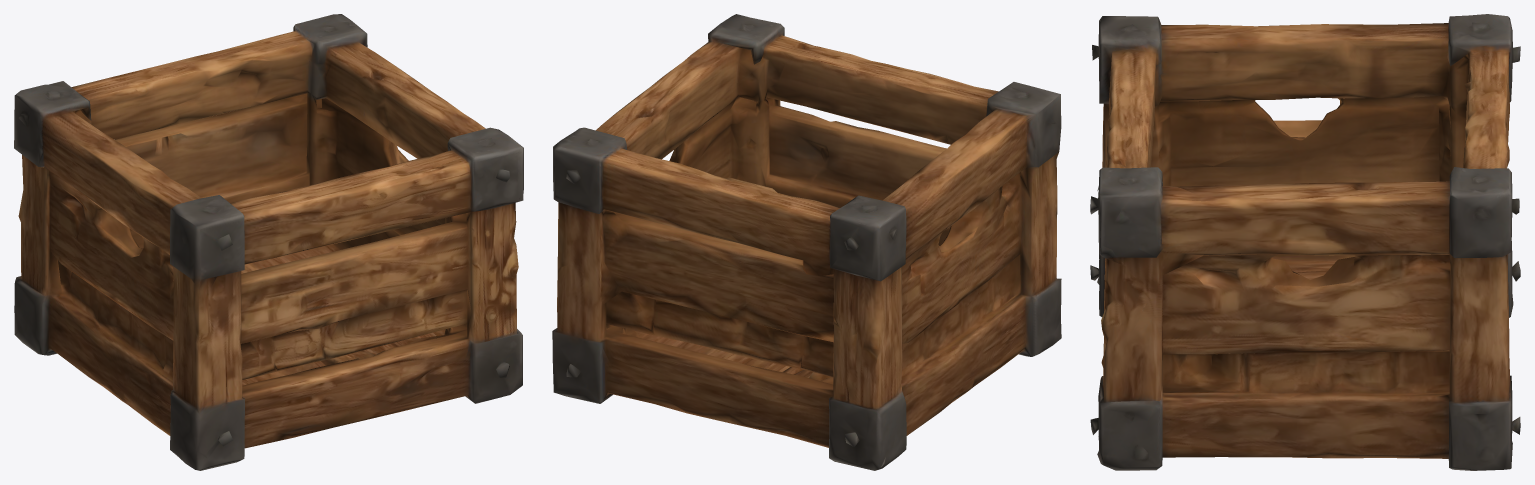
The model's file is crate.glb.
3 renders of one model, left to right at view 1: azimuth 30°, elevation 25°; view 2: azimuth 150°, elevation 25°; view 3: azimuth 270°, elevation 25°, orthographic. The views are drawn at different scales.
Visible parts, largest first — view 1: tripo_node_d1b6e989-1e1a-403a-bf50-bf38d7224e8a; view 2: tripo_node_d1b6e989-1e1a-403a-bf50-bf38d7224e8a; view 3: tripo_node_d1b6e989-1e1a-403a-bf50-bf38d7224e8a.
Boxes of the visible parts, x1,y1,x2,y2 form: tripo_node_d1b6e989-1e1a-403a-bf50-bf38d7224e8a: (14, 14, 523, 470); tripo_node_d1b6e989-1e1a-403a-bf50-bf38d7224e8a: (552, 14, 1061, 470); tripo_node_d1b6e989-1e1a-403a-bf50-bf38d7224e8a: (1090, 14, 1520, 470).
Size of the model in its own units: 1 by 0.7224 by 0.988.
1 material, 1 textured.
